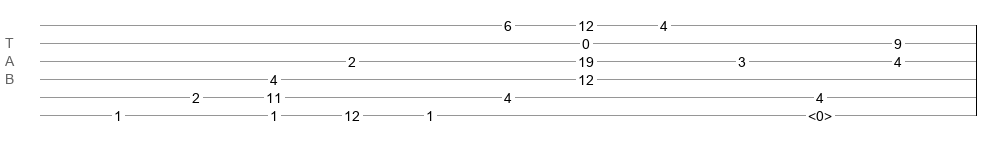0: (582, 36, 590, 46)
1: (114, 108, 122, 118), (270, 108, 278, 118), (426, 108, 434, 118)
11: (266, 90, 282, 100)
12: (344, 108, 360, 118), (578, 18, 594, 28), (578, 72, 594, 82)
19: (578, 54, 594, 64)
2: (192, 90, 200, 100), (348, 54, 356, 64)
3: (738, 54, 746, 64)
4: (270, 72, 278, 82), (504, 90, 512, 100), (660, 18, 668, 28), (816, 90, 824, 100), (894, 54, 902, 64)
6: (504, 18, 512, 28)
9: (894, 36, 902, 46)
harmonic: (808, 108, 832, 118)
